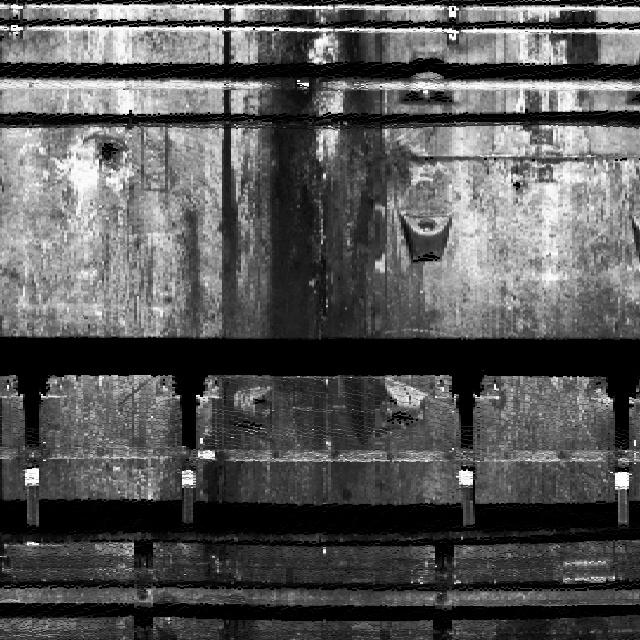leakage: (157, 7, 439, 639), (531, 2, 617, 112)
